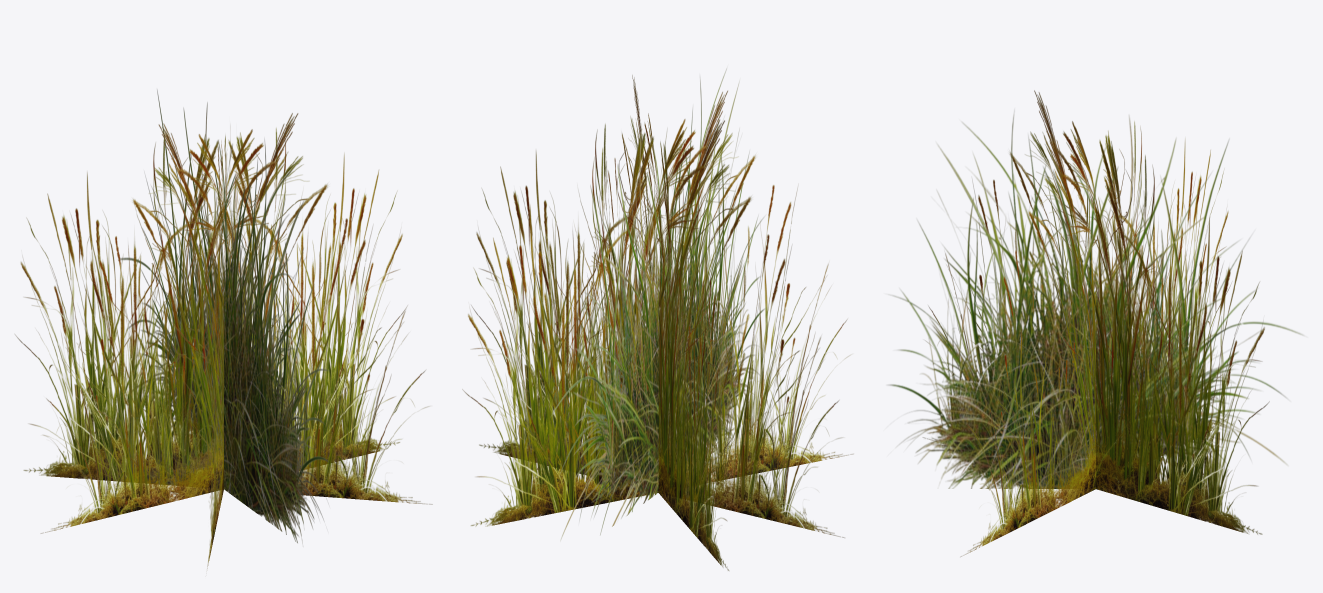
The model's file is grass_test_joined.glb.
The picture shows the model from 3 angles, left to right: view 1: azimuth 30°, elevation 25°; view 2: azimuth 150°, elevation 25°; view 3: azimuth 270°, elevation 25°; orthographic projection.
Parts seen in each view (by area): view 1: grass2; view 2: grass2; view 3: grass2.
Part boxes in pixels (x1,y1,x2,y2): grass2: (15, 89, 432, 568); grass2: (462, 68, 853, 570); grass2: (887, 90, 1304, 556).
Bounding box in the file's own units: 1 × 1 × 1.
Materials: 4 (4 with a texture image).
